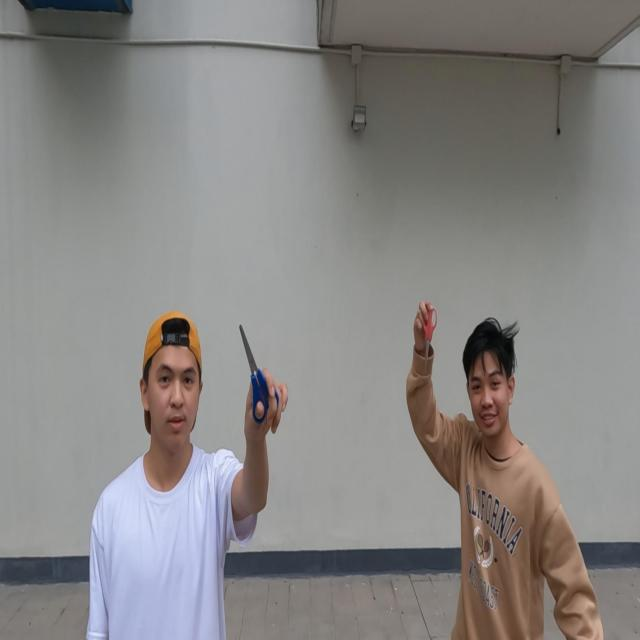scissor: (239, 323, 280, 427), (420, 305, 438, 375)
